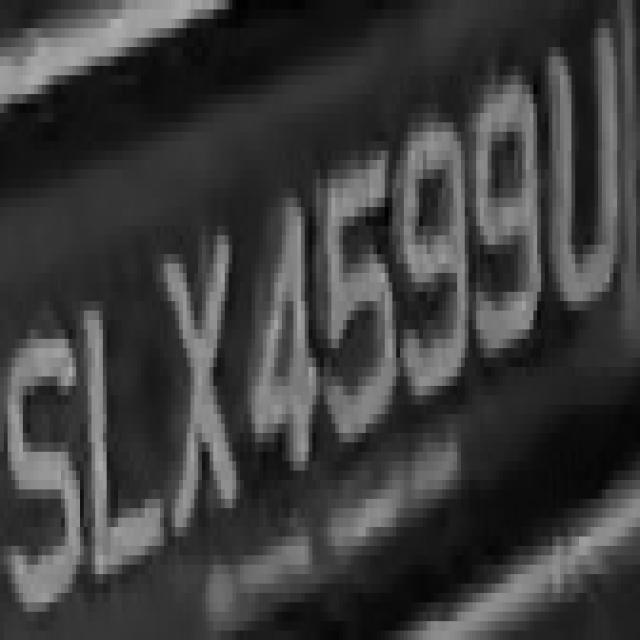4: (228, 160, 312, 527)
5: (316, 141, 404, 461)
9: (461, 47, 541, 377), (385, 94, 465, 414)
L: (76, 254, 164, 574)
S: (3, 292, 88, 630)
U: (541, 28, 625, 339)
X: (145, 207, 240, 546)
